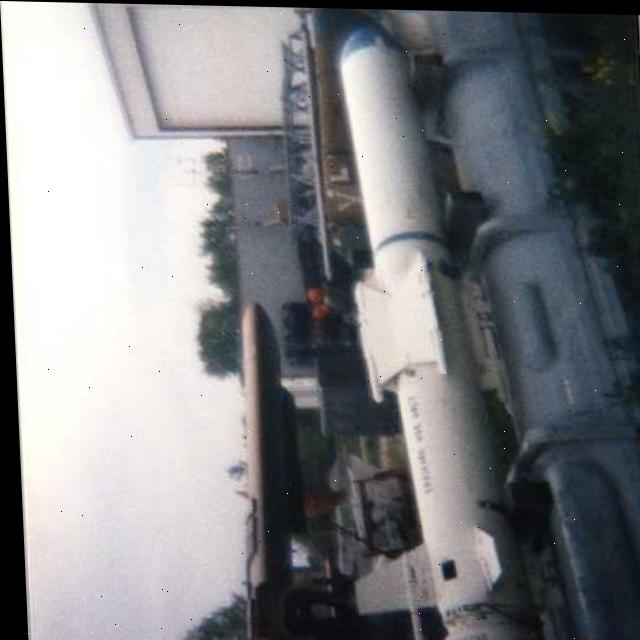missile: (317, 6, 501, 640)
